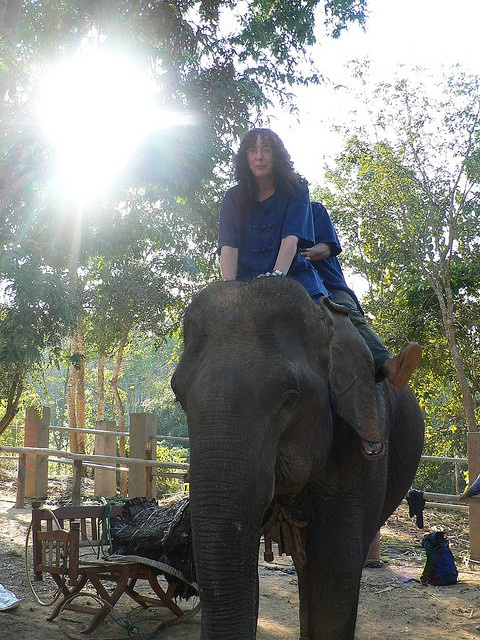elephant: (168, 276, 423, 640)
